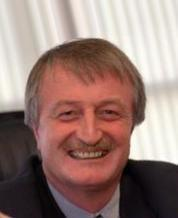face: (55, 100, 119, 163)
